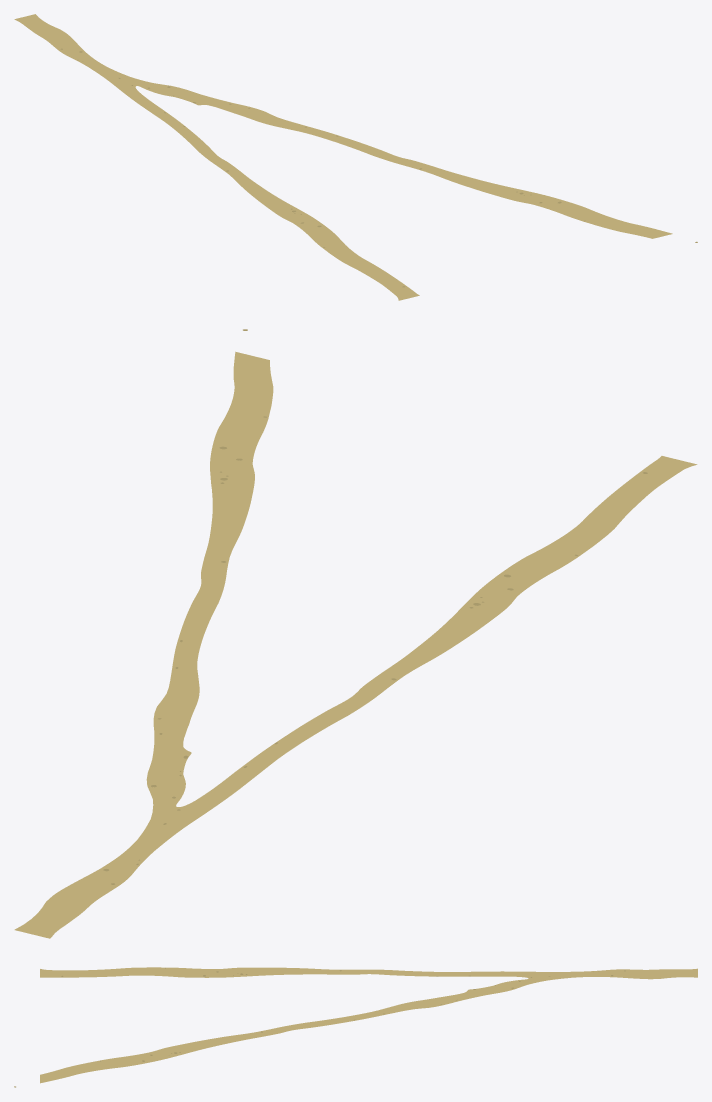
Rendered from Mesh_Adventure_Forest_Variant_Terrain_02.fbx.
The picture shows the model from 3 angles, top to bottom: view 1: azimuth 30°, elevation 25°; view 2: azimuth 150°, elevation 25°; view 3: azimuth 270°, elevation 25°; orthographic projection. The views are drawn at different scales.
Parts seen in each view (by area): view 1: Mesh_Adventure_Forest_Variant_Terrain_02; view 2: Mesh_Adventure_Forest_Variant_Terrain_02; view 3: Mesh_Adventure_Forest_Variant_Terrain_02.
Boxes of the visible parts, x1,y1,x2,y2 form: Mesh_Adventure_Forest_Variant_Terrain_02: (14, 14, 697, 300); Mesh_Adventure_Forest_Variant_Terrain_02: (14, 329, 697, 938); Mesh_Adventure_Forest_Variant_Terrain_02: (14, 967, 697, 1087).
Size of the model in its own units: 1512 by 1.36 by 3639.
